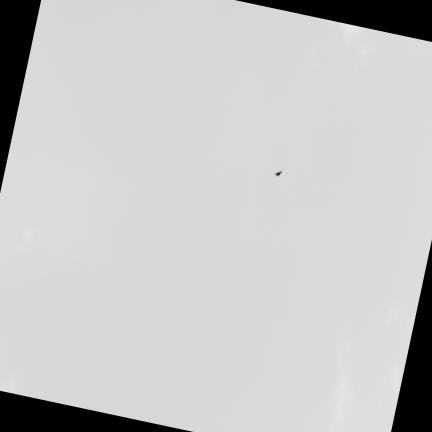Shahed: (275, 170, 282, 175)
